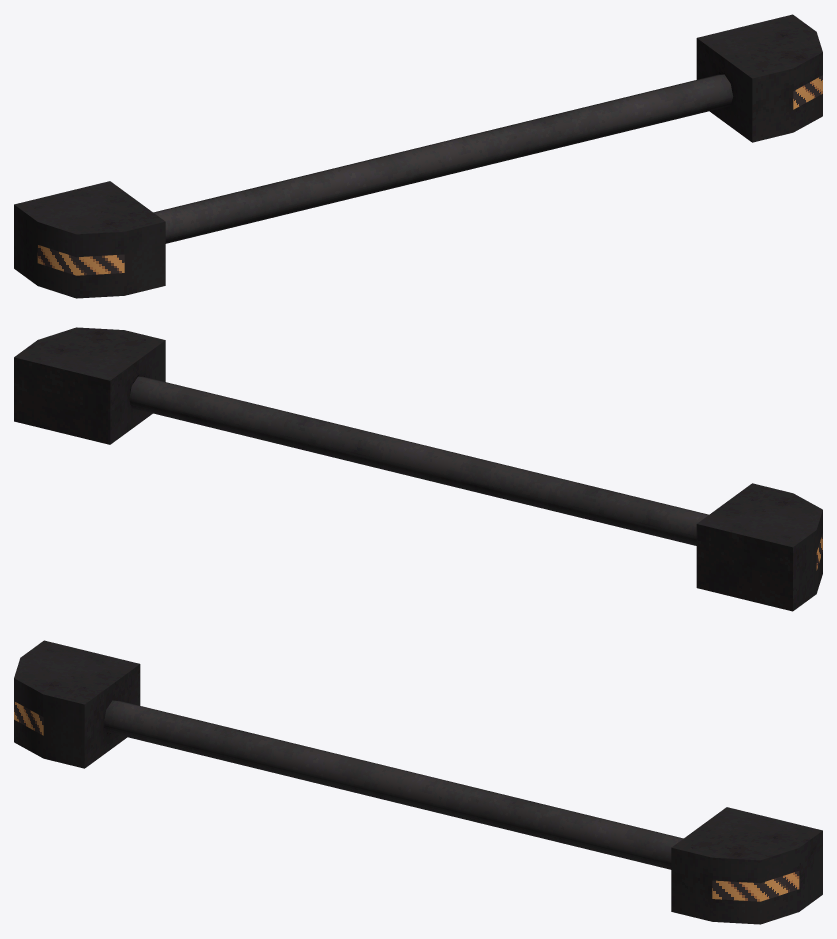
3 views of the same model, one above another, from view 1: azimuth 30°, elevation 25°; view 2: azimuth 150°, elevation 25°; view 3: azimuth 330°, elevation 25° (orthographic).
Visible parts, largest first — view 1: 4; view 2: 4; view 3: 4.
Part boxes in pixels (box(x1,y1,x2,y2)): 4: box(14, 14, 822, 298); 4: box(14, 327, 822, 611); 4: box(14, 640, 822, 924).
Size of the model in its own units: 4.47 by 0.3517 by 0.5518.
1 material, 1 textured.
